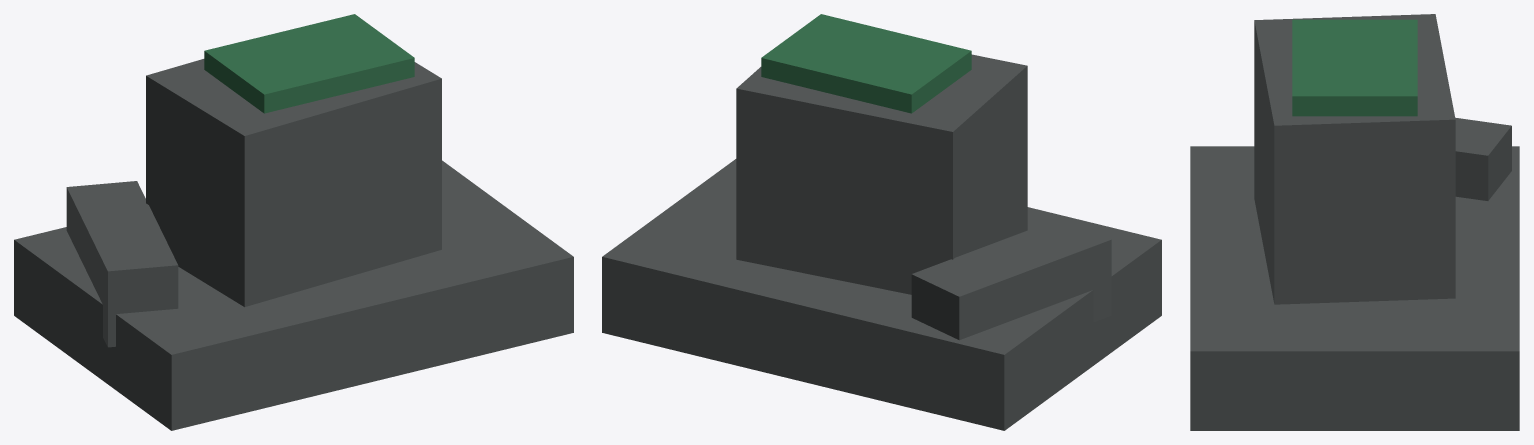
Rendered from df_ruined_shrine_a.glb.
3 views of the same model, side by side, from view 1: azimuth 30°, elevation 25°; view 2: azimuth 150°, elevation 25°; view 3: azimuth 270°, elevation 25° (orthographic). The views are drawn at different scales.
Parts seen in each view (by area): view 1: shrine_base, broken_plinth, moss_blanket, fallen_side_stone; view 2: shrine_base, broken_plinth, fallen_side_stone, moss_blanket; view 3: shrine_base, broken_plinth, moss_blanket, fallen_side_stone.
Boxes of the visible parts, x1=… form: shrine_base: x1=14, y1=160, x2=573, y2=430; broken_plinth: x1=146, y1=59, x2=441, y2=307; moss_blanket: x1=204, y1=14, x2=414, y2=113; fallen_side_stone: x1=66, y1=181, x2=178, y2=347; shrine_base: x1=602, y1=159, x2=1161, y2=430; broken_plinth: x1=736, y1=54, x2=1027, y2=294; fallen_side_stone: x1=911, y1=217, x2=1111, y2=340; moss_blanket: x1=761, y1=14, x2=971, y2=113; shrine_base: x1=1190, y1=146, x2=1519, y2=430; broken_plinth: x1=1254, y1=14, x2=1455, y2=304; moss_blanket: x1=1292, y1=19, x2=1417, y2=116; fallen_side_stone: x1=1455, y1=117, x2=1511, y2=200.
Size of the model in its own units: 1.58 by 0.98 by 1.05.
